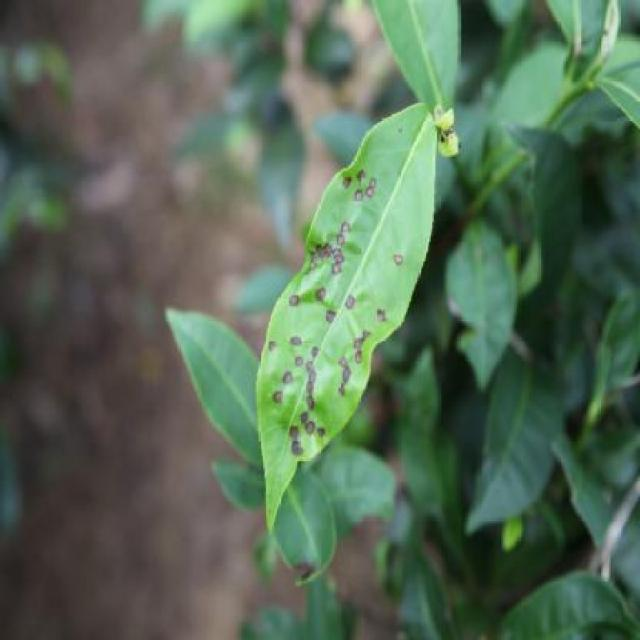Tea Mosquito bug infested leaf: (251, 119, 451, 538)
